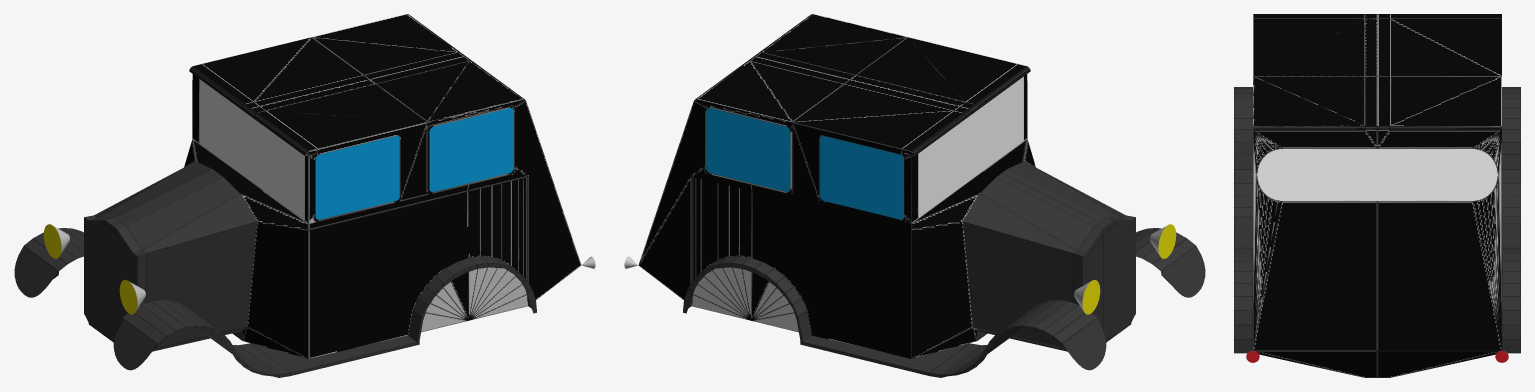
Rendered from fewdor3.glb.
The picture shows the model from 3 angles, left to right: view 1: azimuth 30°, elevation 25°; view 2: azimuth 150°, elevation 25°; view 3: azimuth 270°, elevation 25°; orthographic projection. The views are drawn at different scales.
Parts seen in each view (by area): view 1: body, windows, hood, mudFlaps, Radiator, Fog; view 2: body, windows, hood, mudFlaps, Radiator, Fog; view 3: body, mudFlaps, Tailight.
Part boxes in pixels (x1=…): body: x1=184, y1=14, x2=581, y2=358; windows: x1=199, y1=79, x2=513, y2=221; hood: x1=94, y1=161, x2=256, y2=351; mudFlaps: x1=14, y1=228, x2=536, y2=377; Radiator: x1=84, y1=215, x2=145, y2=342; Fog: x1=43, y1=224, x2=145, y2=314; body: x1=638, y1=14, x2=1035, y2=358; windows: x1=706, y1=76, x2=1023, y2=219; hood: x1=963, y1=161, x2=1125, y2=351; mudFlaps: x1=683, y1=228, x2=1205, y2=377; Radiator: x1=1074, y1=215, x2=1135, y2=342; Fog: x1=1074, y1=224, x2=1176, y2=314; body: x1=1253, y1=14, x2=1502, y2=377; mudFlaps: x1=1234, y1=87, x2=1520, y2=353; Tailight: x1=1246, y1=350, x2=1508, y2=362.
Size of the model in its own units: 4.4 by 1.94 by 2.22.
Materials: 7 (7 with a texture image).
